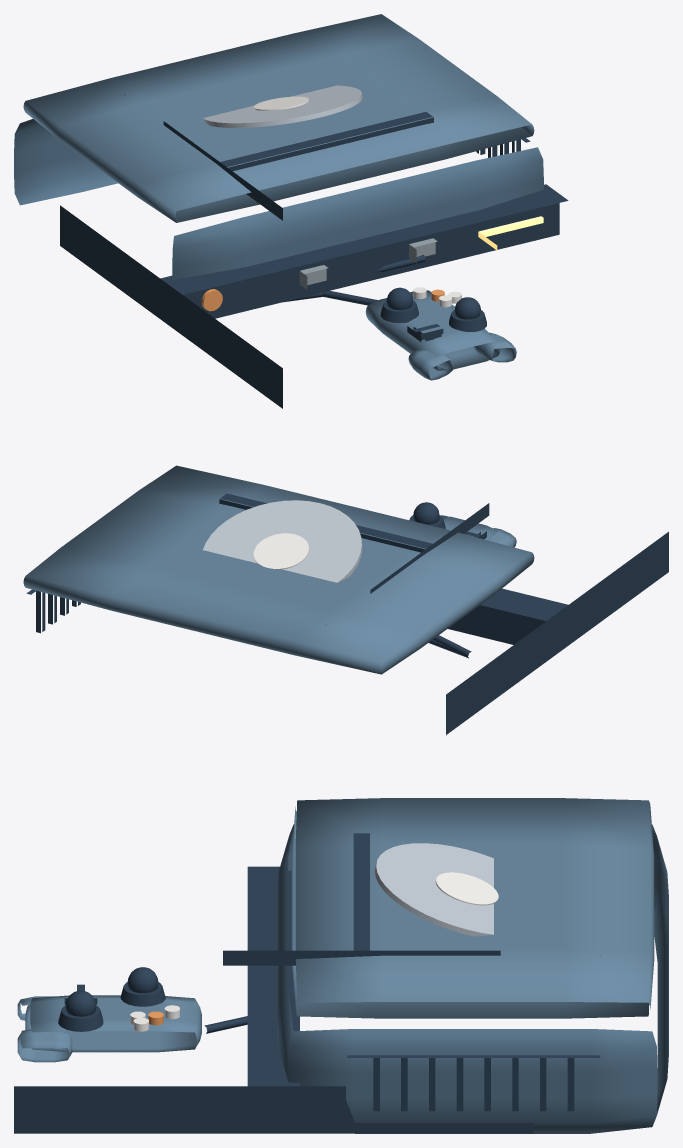
File: model-console-03.glb
3 views of the same model, one above another, from view 1: azimuth 30°, elevation 25°; view 2: azimuth 150°, elevation 25°; view 3: azimuth 270°, elevation 25° (orthographic). The views are drawn at different scales.
Parts seen in each view (by area): view 1: 顶盖, 前面板, 机身, 手柄外壳, 光盘托盘唇, 光盘, 手柄左握把, 手柄线缆, 手柄右握把, 状态灯条; view 2: 顶盖, 前面板, 光盘, 光盘托盘唇, 光盘内圈; view 3: 顶盖, 机身, 前面板, 光盘, 手柄外壳, 光盘托盘唇, 手柄右握把, 光盘内圈, 右摇杆座, 左摇杆座, 右摇杆帽, 左摇杆帽 (+8 smaller).
Boxes of the visible parts, x1,y1,x2,y2 form: 顶盖: (23,14,534,222); 前面板: (60,184,568,408); 机身: (14,119,543,280); 手柄外壳: (365,290,500,370); 光盘托盘唇: (163,112,433,220); 光盘: (203,85,362,127); 手柄左握把: (408,349,453,380); 手柄线缆: (283,255,425,305); 手柄右握把: (473,332,516,362); 状态灯条: (478,216,543,250); 顶盖: (23,465,534,674); 前面板: (446,531,668,734); 光盘: (203,500,362,582); 光盘托盘唇: (219,493,489,593); 光盘内圈: (253,533,309,569); 顶盖: (291,798,654,1018); 机身: (277,824,668,1133); 前面板: (14,866,533,1133); 光盘: (374,843,493,936); 手柄外壳: (25,995,201,1052); 光盘托盘唇: (223,833,500,965); 手柄右握把: (17,1029,72,1062); 光盘内圈: (435,872,498,905); 右摇杆座: (58,1005,103,1031); 左摇杆座: (120,982,165,1006); 右摇杆帽: (65,990,96,1016); 左摇杆帽: (127,967,158,992).
Size of the model in its own units: 0.323 by 0.1173 by 0.401.
